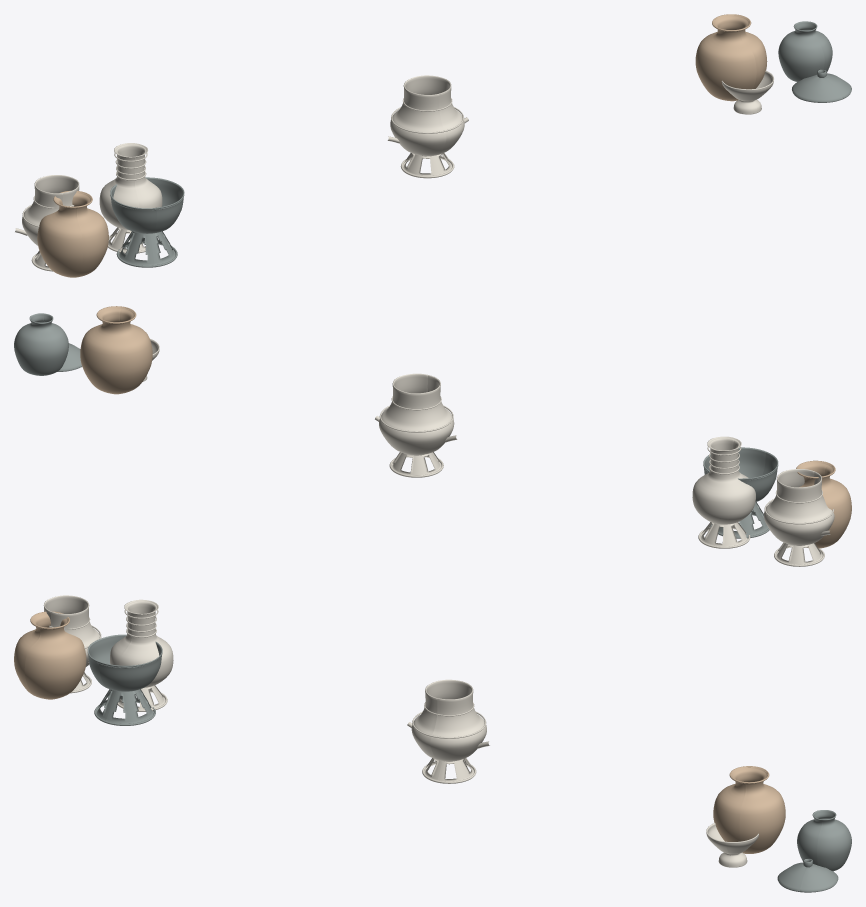
File: gallery-collection-v2.glb
3 views of the same model, one above another, from view 1: azimuth 30°, elevation 25°; view 2: azimuth 150°, elevation 25°; view 3: azimuth 330°, elevation 25° (orthographic).
Parts seen in each view (by area): view 1: Hand thrown body with inner wall (×8), Openwork pedestal with wall thickness (×2), Lid; view 2: Hand thrown body with inner wall (×7), Openwork pedestal with wall thickness (×4); view 3: Hand thrown body with inner wall (×8), Openwork pedestal with wall thickness (×2), Lid.
Part boxes in pixels (box(x1,y1,x2,y2)): Hand thrown body with inner wall (×8): box(22, 15, 832, 277); Openwork pedestal with wall thickness (×2): box(119, 153, 451, 265); Lid: box(792, 73, 851, 102); Hand thrown body with inner wall (×7): box(14, 307, 851, 548); Openwork pedestal with wall thickness (×4): box(392, 452, 822, 564); Hand thrown body with inner wall (×8): box(14, 595, 851, 871); Openwork pedestal with wall thickness (×2): box(96, 689, 473, 781); Lid: box(777, 862, 838, 892).
Size of the model in its own units: 6.36 by 0.6995 by 0.7731.
